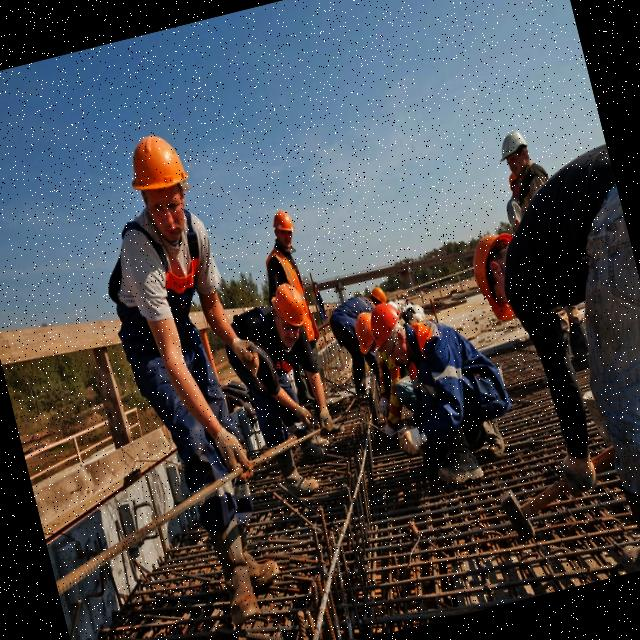Helmet: (467, 226, 525, 325), (121, 129, 193, 202), (366, 301, 409, 358), (270, 283, 309, 332), (495, 127, 533, 167), (352, 311, 378, 358), (269, 209, 298, 238), (371, 287, 389, 305)
Jacket: (265, 245, 302, 287)
NoJacket: (109, 219, 232, 426), (492, 174, 640, 336), (402, 321, 496, 441), (235, 311, 288, 368)
